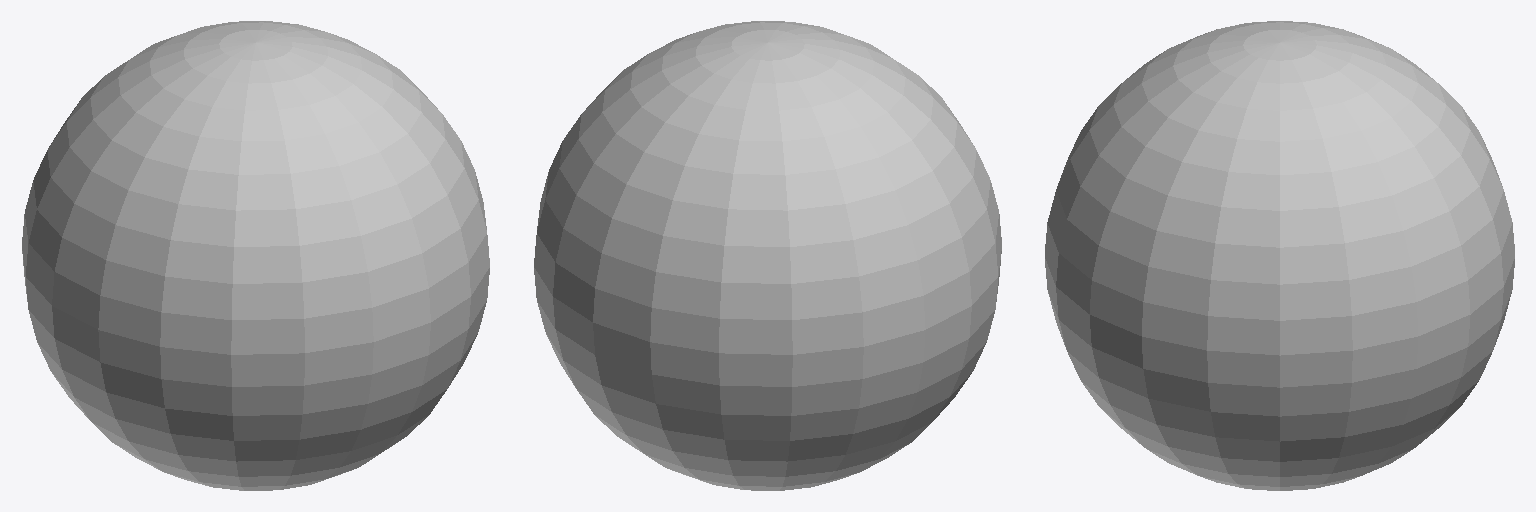
Rendered from Frag.obj.
The picture shows the model from 3 angles: view 1: azimuth 30°, elevation 25°; view 2: azimuth 150°, elevation 25°; view 3: azimuth 270°, elevation 25°; orthographic projection.
Parts seen in each view (by area): view 1: pSphere1; view 2: pSphere1; view 3: pSphere1.
Boxes of the visible parts, x1,y1,x2,y2 form: pSphere1: [22, 21, 489, 490]; pSphere1: [534, 21, 1001, 490]; pSphere1: [1045, 21, 1514, 490].
Size of the model in its own units: 0.6547 by 0.6547 by 0.6547.